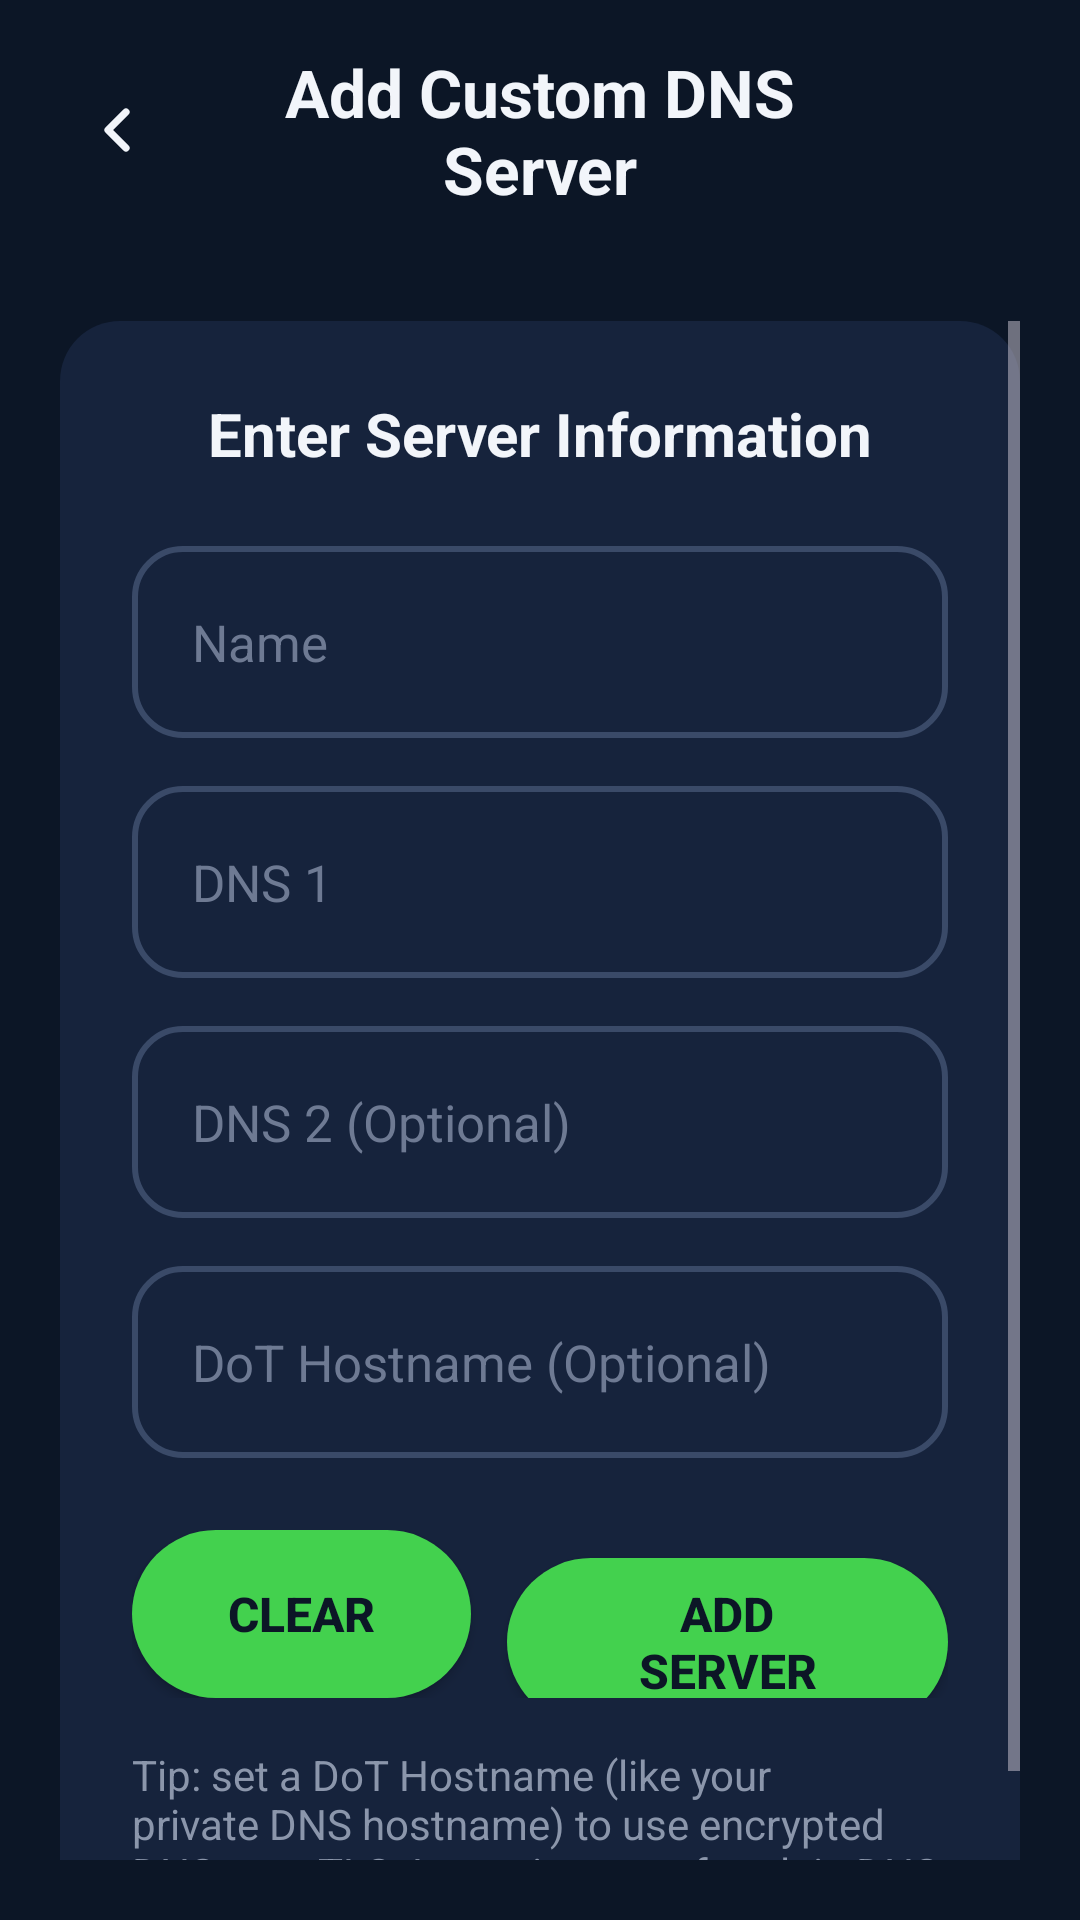

Locate icon controls on the screen. Image size 1080px×1920px, boxes as bbox=[x1, y1, x2, y2].
back: bbox=[104, 108, 130, 152]
